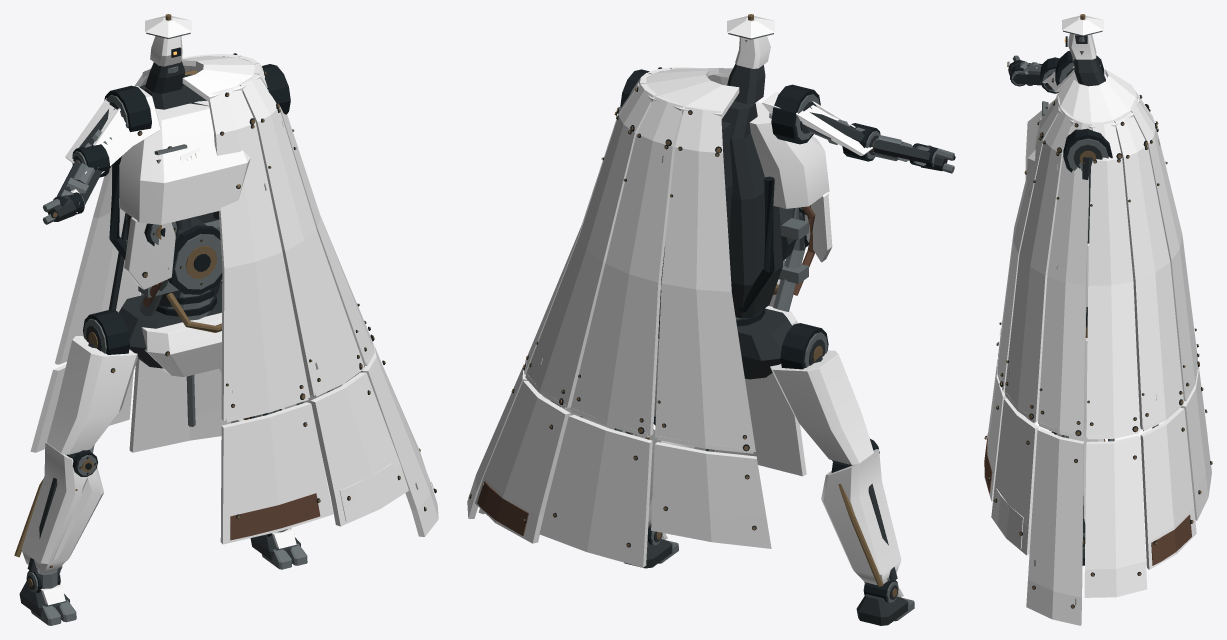
The model's file is mechanical-citizens-armored-cloak-v1.glb.
3 views of the same model, side by side, from view 1: azimuth 30°, elevation 25°; view 2: azimuth 150°, elevation 25°; view 3: azimuth 270°, elevation 25° (orthographic). The views are drawn at different scales.
Visible parts, largest first — view 1: PLATE_mantle_front_upper, PLATE_mantle_broad_upper, PLATE_mantle_front_hem, PLATE_exposed_chest_slope, PLATE_mantle_broad_hem, CORE_chest, PLATE_mantle_rear_center_hem, PLATE_thigh_shell.R, PLATE_mantle_rear_return_upper, PLATE_shin_blade.R, PLATE_mantle_outer_hem, PLATE_pelvis_front_guard (+16 smaller); view 2: PLATE_mantle_rear_return_upper, PLATE_mantle_rear_center_upper, PLATE_mantle_rear_center_hem, CORE_chest, PLATE_mantle_rear_outer_upper, PLATE_mantle_rear_return_hem, PLATE_mantle_rear_outer_hem, PLATE_thigh_shell.R, PLATE_shin_blade.R, PLATE_exposed_chest_slope, PLATE_mantle_front_hem, PLATE_mantle_upper_saddle (+14 smaller); view 3: PLATE_mantle_side_upper, PLATE_mantle_rear_outer_upper, PLATE_mantle_outer_upper, PLATE_mantle_outer_hem, PLATE_mantle_side_hem, PLATE_mantle_broad_upper, PLATE_mantle_rear_outer_hem, PLATE_mantle_broad_hem, PLATE_mantle_rear_center_upper, PLATE_mantle_front_upper, PLATE_mantle_upper_saddle, PLATE_mantle_rear_center_hem (+9 smaller).
Part boxes in pixels (x1,y1,x2,y2): PLATE_mantle_front_upper: (208,85,310,422); PLATE_mantle_broad_upper: (239,74,364,396); PLATE_mantle_front_hem: (220,402,333,544); PLATE_exposed_chest_slope: (119,101,250,224); PLATE_mantle_broad_hem: (310,372,408,526); CORE_chest: (109,70,222,320); PLATE_mantle_rear_center_hem: (129,358,230,452); PLATE_thigh_shell.R: (47,336,137,454); PLATE_mantle_rear_return_upper: (55,68,151,364); PLATE_shin_blade.R: (21,442,103,573); PLATE_mantle_outer_hem: (359,344,438,536); PLATE_pelvis_front_guard: (141,312,221,376); PLATE_mantle_rear_return_upper: (655,106,755,453); PLATE_mantle_rear_center_upper: (570,96,683,437); PLATE_mantle_rear_center_hem: (539,415,652,567); CORE_chest: (721,101,815,326); PLATE_mantle_rear_outer_upper: (525,83,656,408); PLATE_mantle_rear_return_hem: (651,442,771,548); PLATE_mantle_rear_outer_hem: (475,381,570,543); PLATE_thigh_shell.R: (770,350,873,464); PLATE_shin_blade.R: (821,449,901,584); PLATE_exposed_chest_slope: (749,102,829,208); PLATE_mantle_front_hem: (694,372,806,476); PLATE_mantle_upper_saddle: (635,67,739,118); PLATE_mantle_side_upper: (1086,120,1140,439); PLATE_mantle_rear_outer_upper: (1113,111,1183,431); PLATE_mantle_outer_upper: (1038,118,1092,438); PLATE_mantle_outer_hem: (1026,428,1084,625); PLATE_mantle_side_hem: (1084,435,1147,597); PLATE_mantle_broad_upper: (1004,108,1074,423); PLATE_mantle_rear_outer_hem: (1140,407,1196,569); PLATE_mantle_broad_hem: (991,398,1038,555); PLATE_mantle_rear_center_upper: (1130,98,1199,401); PLATE_mantle_front_upper: (996,94,1061,391); PLATE_mantle_upper_saddle: (1052,69,1142,130); PLATE_mantle_rear_center_hem: (1181,369,1212,520).
Bounding box in the file's own units: 3.23 × 4.04 × 1.67.
